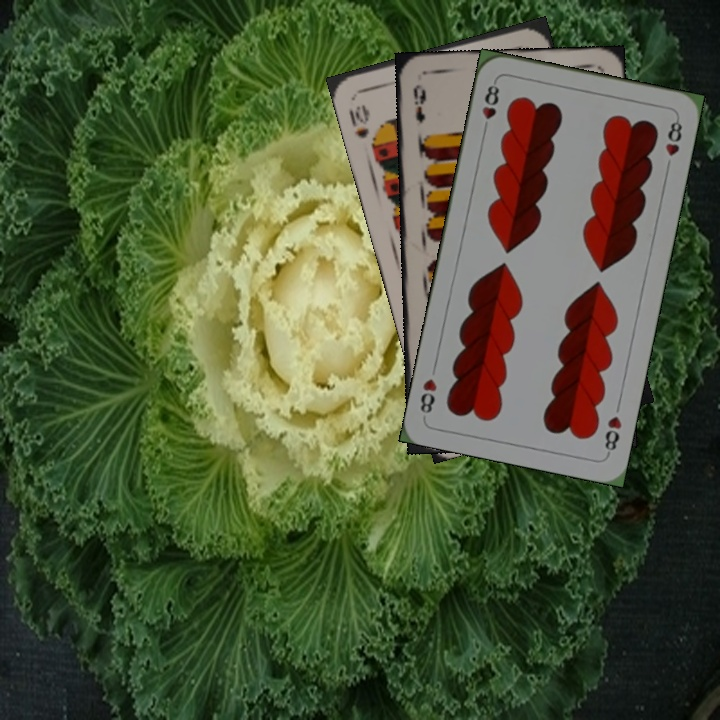E9: (409, 80, 429, 125)
H8: (478, 77, 502, 136), (600, 412, 624, 458)
S10: (345, 100, 372, 141)
